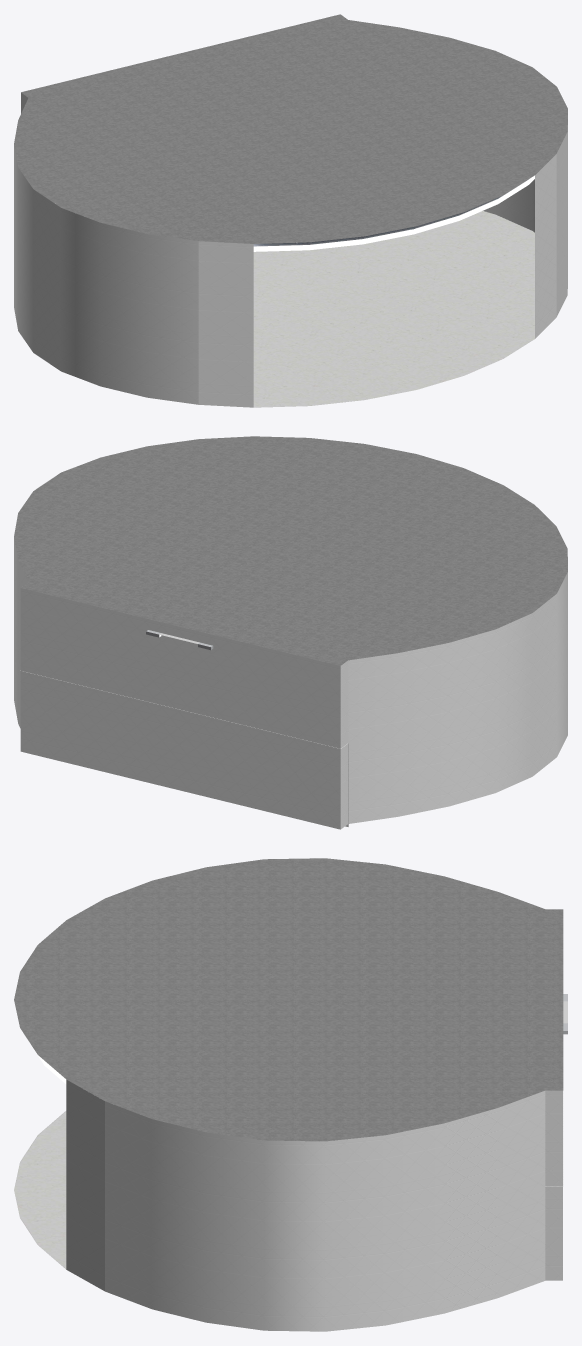
File: hindilobby.glb
3 views of the same model, one above another, from view 1: azimuth 30°, elevation 25°; view 2: azimuth 150°, elevation 25°; view 3: azimuth 270°, elevation 25° (orthographic). The views are drawn at different scales.
Parts seen in each view (by area): view 1: top layer, lb main wall.001, floor, ceiling; view 2: top layer, lb main wall.001; view 3: top layer, lb main wall.001, floor.
Boxes of the visible parts, <box> form: top layer: <box>14,14,567,243</box>; lb main wall.001: <box>14,93,567,407</box>; floor: <box>253,211,534,407</box>; ceiling: <box>253,175,534,251</box>; top layer: <box>14,436,567,665</box>; lb main wall.001: <box>14,537,567,829</box>; top layer: <box>14,858,563,1141</box>; lb main wall.001: <box>66,1079,562,1331</box>; floor: <box>14,1111,66,1269</box>.
Bounding box in the file's own units: 25.81 × 8.24 × 21.34.
Materials: 21 (14 with a texture image).
